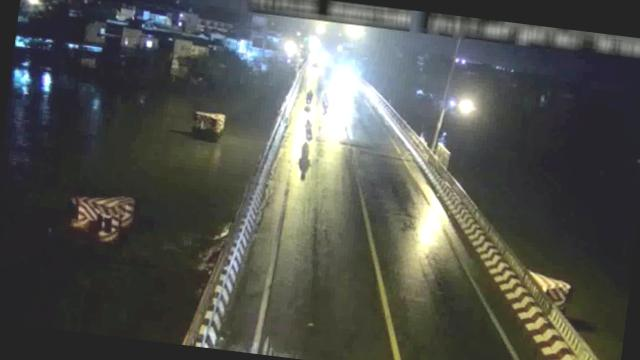Bike: (300, 115, 316, 143), (319, 90, 332, 114), (303, 86, 313, 106)
